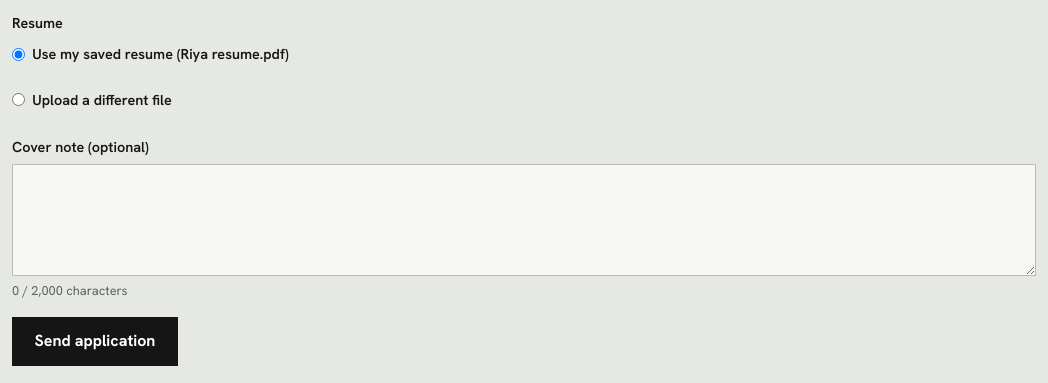
Test: ApplyForm › applies with the saved resume by default when there is one
This screenshot has width=1048, height=383.
Check: the radio button labelled "Use my saved resume (Riya resume.pdf)" is checked, box [12,48,25,61]
Click the button "Send application". click: (95, 342)
box: [12,317,178,366]
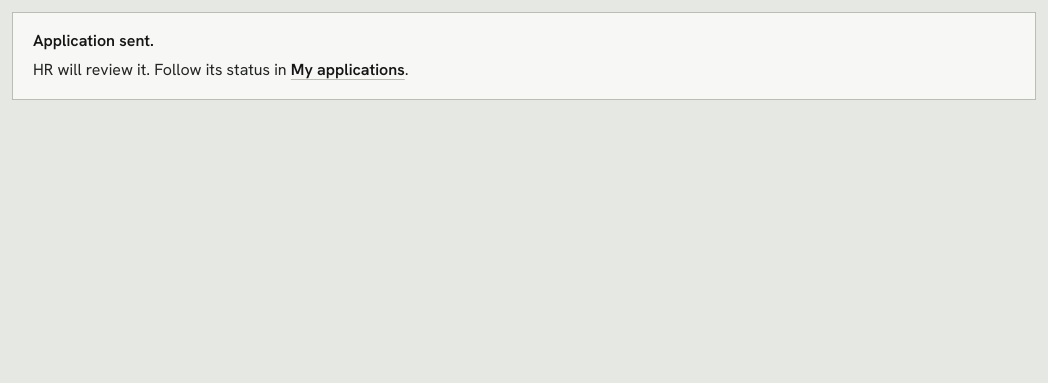
Check: the text "Application sent." is shown, box [33,30,154,51]
